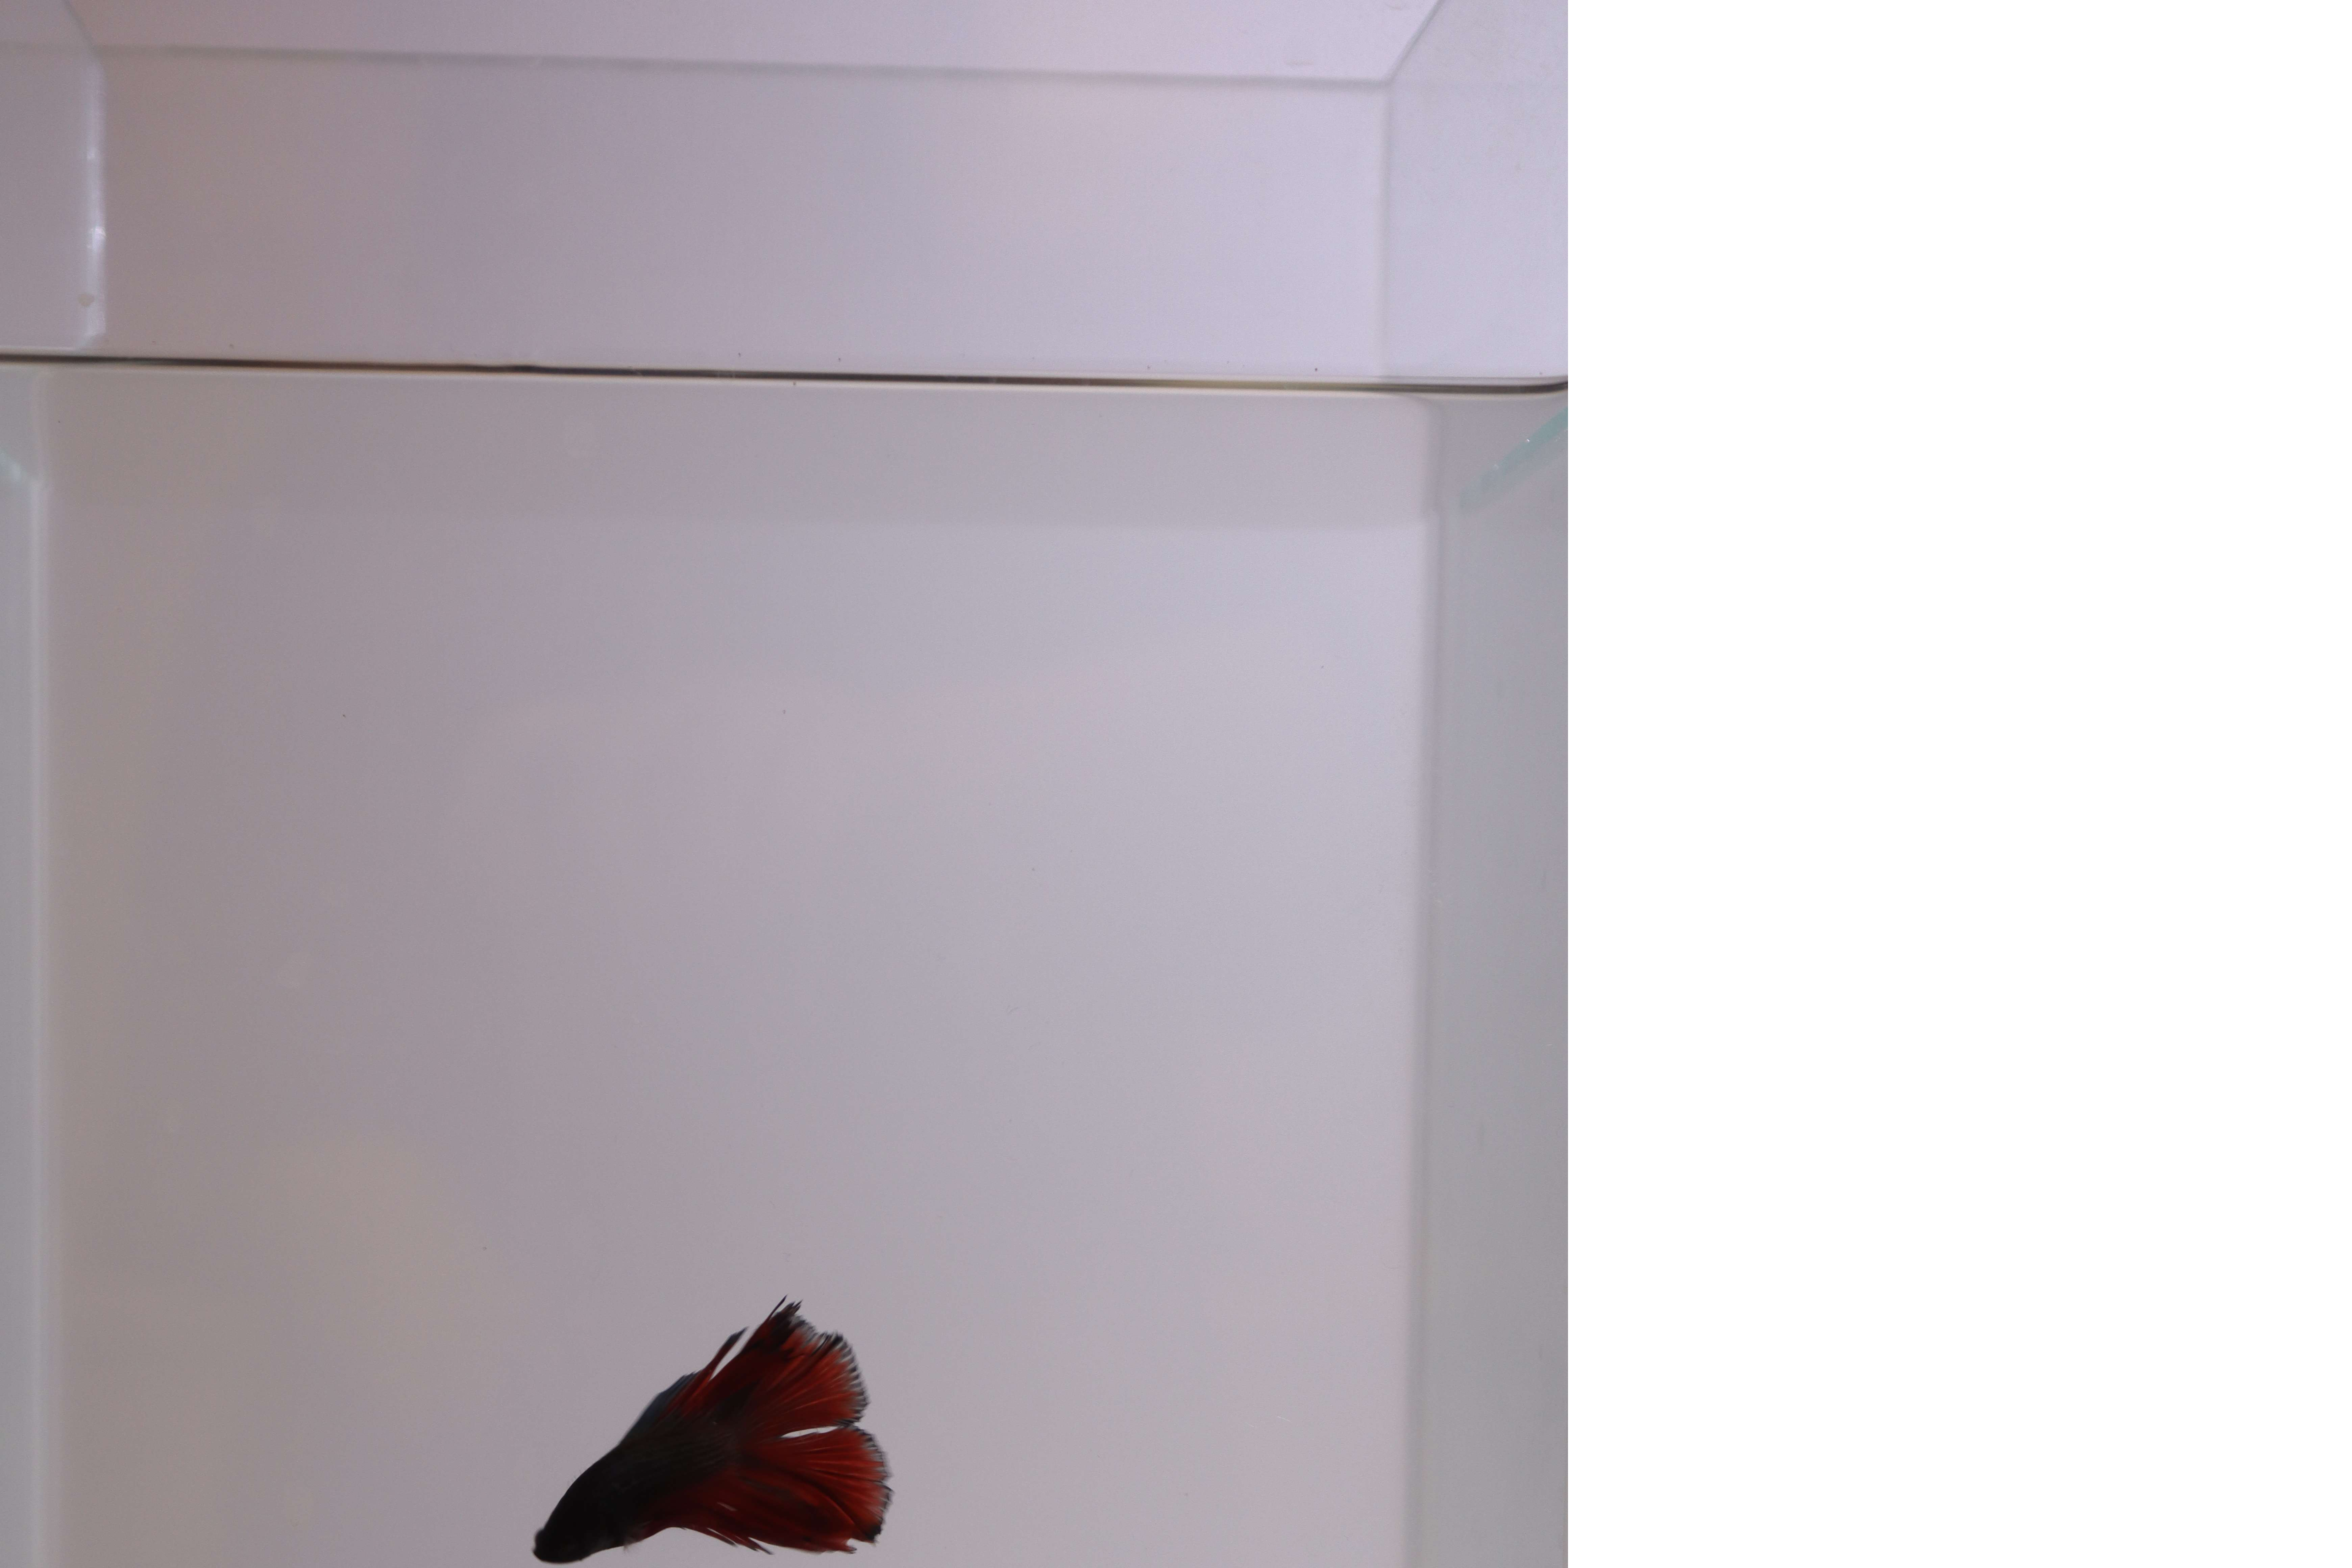fish: (514, 1297, 917, 1565)
